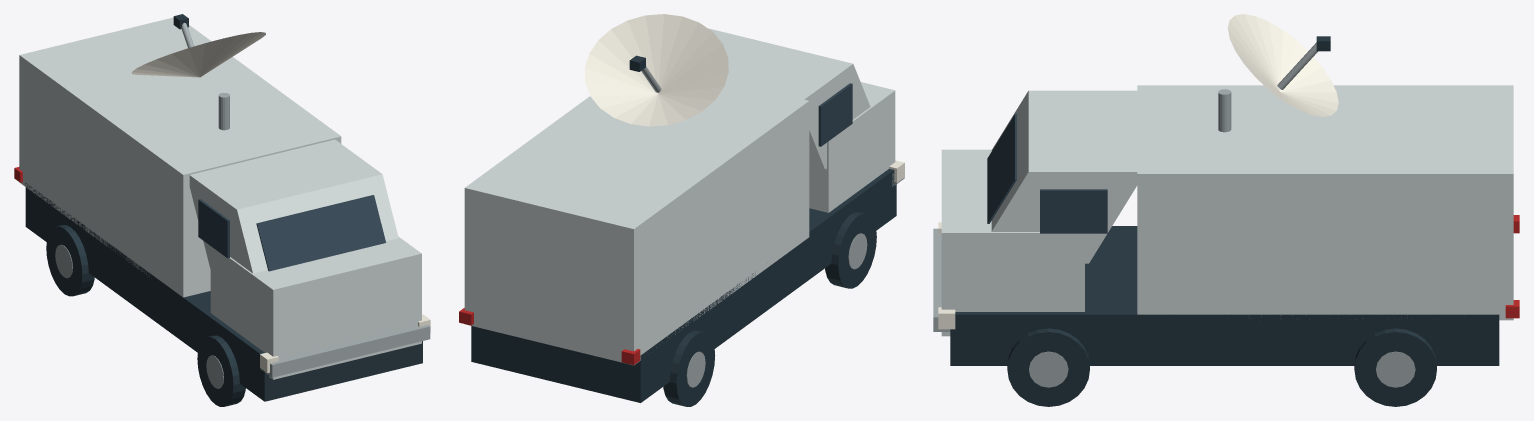
The model's file is scendance-plan-satellite-van.glb.
3 views of the same model, side by side, from view 1: azimuth 30°, elevation 25°; view 2: azimuth 150°, elevation 25°; view 3: azimuth 270°, elevation 25° (orthographic). The views are drawn at different scales.
Bounding box in the file's own units: 2.26 × 3.62 × 5.82.
